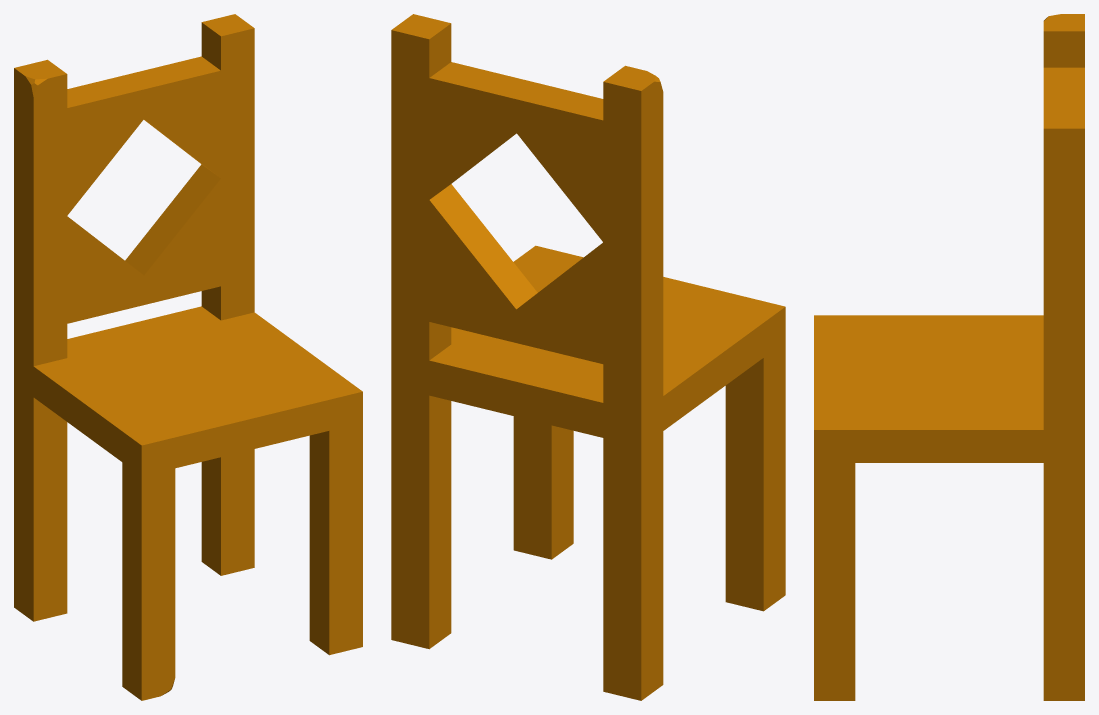
Rendered from Chair_01.fbx.
The picture shows the model from 3 angles, left to right: view 1: azimuth 30°, elevation 25°; view 2: azimuth 150°, elevation 25°; view 3: azimuth 270°, elevation 25°; orthographic projection. The views are drawn at different scales.
Visible parts, largest first — view 1: Chair_01; view 2: Chair_01; view 3: Chair_01.
Part boxes in pixels (x1,y1,x2,y2): Chair_01: (14,14,362,700); Chair_01: (391,14,785,700); Chair_01: (814,14,1084,700).
Size of the model in its own units: 52.89 by 123 by 52.89.
